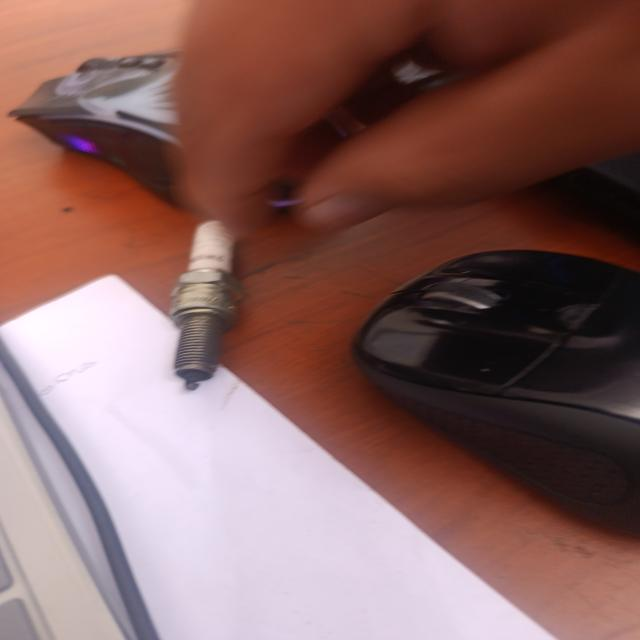bujia: (170, 221, 240, 390)
